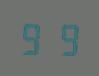nine: (19, 19, 48, 55), (49, 20, 78, 56)
